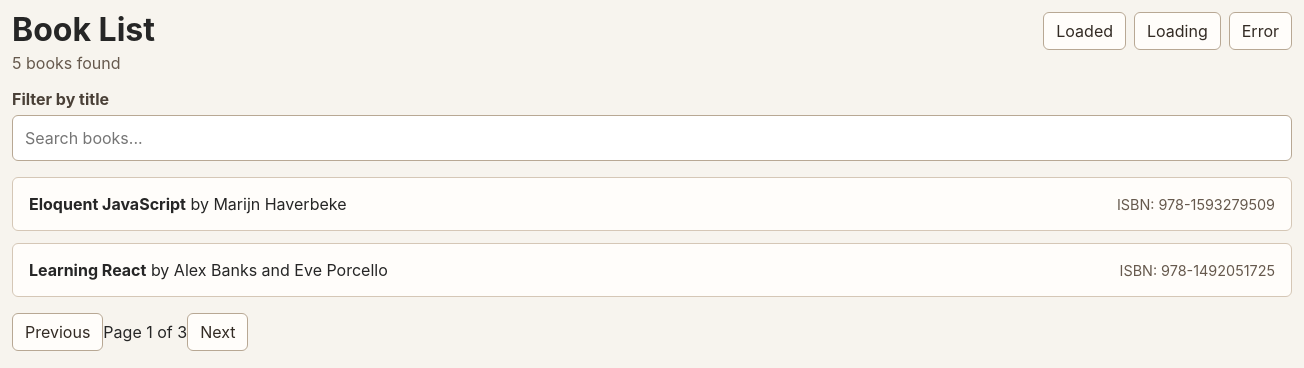
Scenario: BookList › renders the error state
Step 1. Click the button "Error" → coordinates (1260, 31), box [1229,12,1292,50]
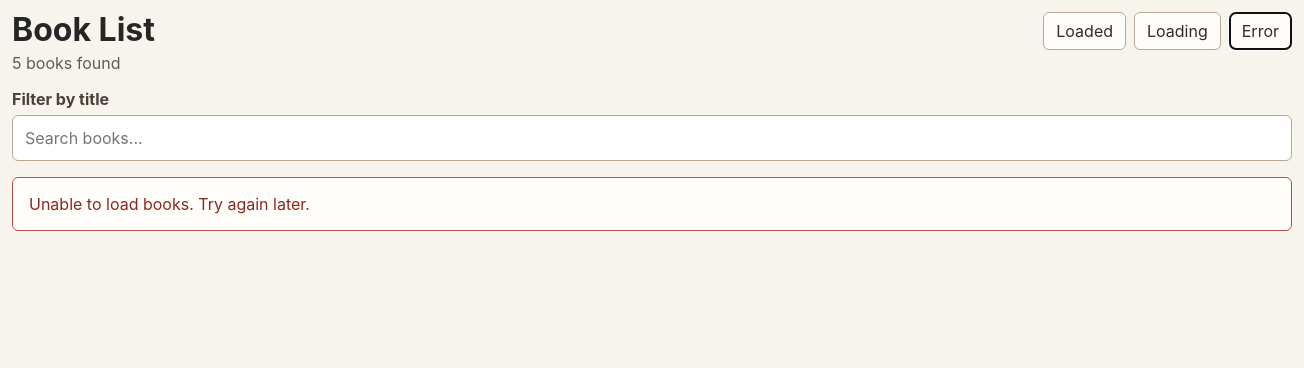
Result: the text "Unable to load books. Try again later." is shown at [12,177,1292,231]
Result: the list is gone
